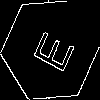E: (25, 25, 75, 75)
